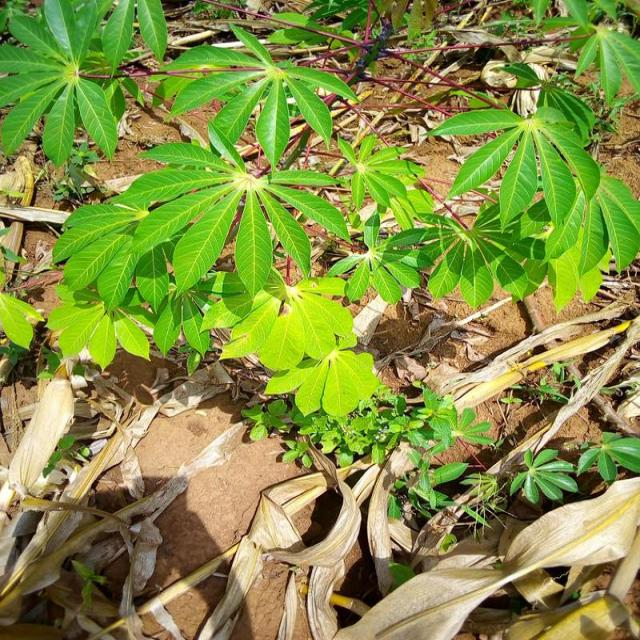cassava leaf: (41, 21, 637, 420)
